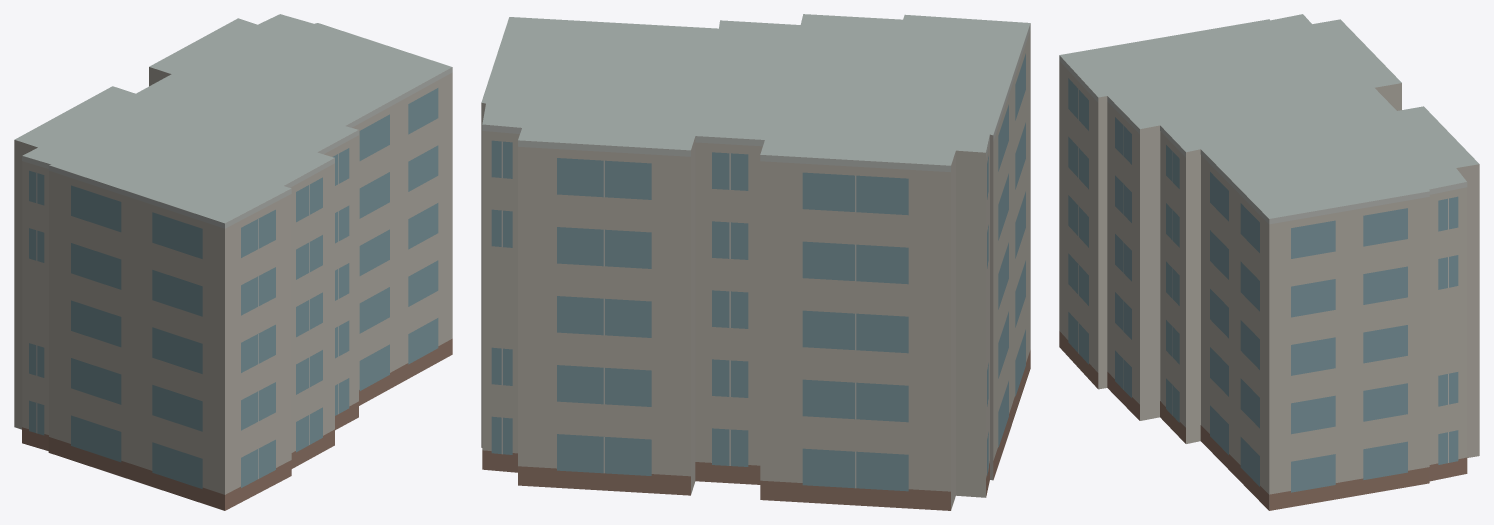
The model's file is survey-upis-32672503.glb.
The picture shows the model from 3 angles, left to right: view 1: azimuth 30°, elevation 25°; view 2: azimuth 150°, elevation 25°; view 3: azimuth 270°, elevation 25°; orthographic projection. The views are drawn at different scales.
Parts seen in each view (by area): view 1: survey-upis-32672503.tmp; view 2: survey-upis-32672503.tmp; view 3: survey-upis-32672503.tmp.
Part boxes in pixels (box(x1,y1,x2,y2)): survey-upis-32672503.tmp: box(14, 14, 452, 510); survey-upis-32672503.tmp: box(481, 14, 1030, 510); survey-upis-32672503.tmp: box(1059, 14, 1479, 510).
Size of the model in its own units: 19.77 by 13.12 by 17.13.
